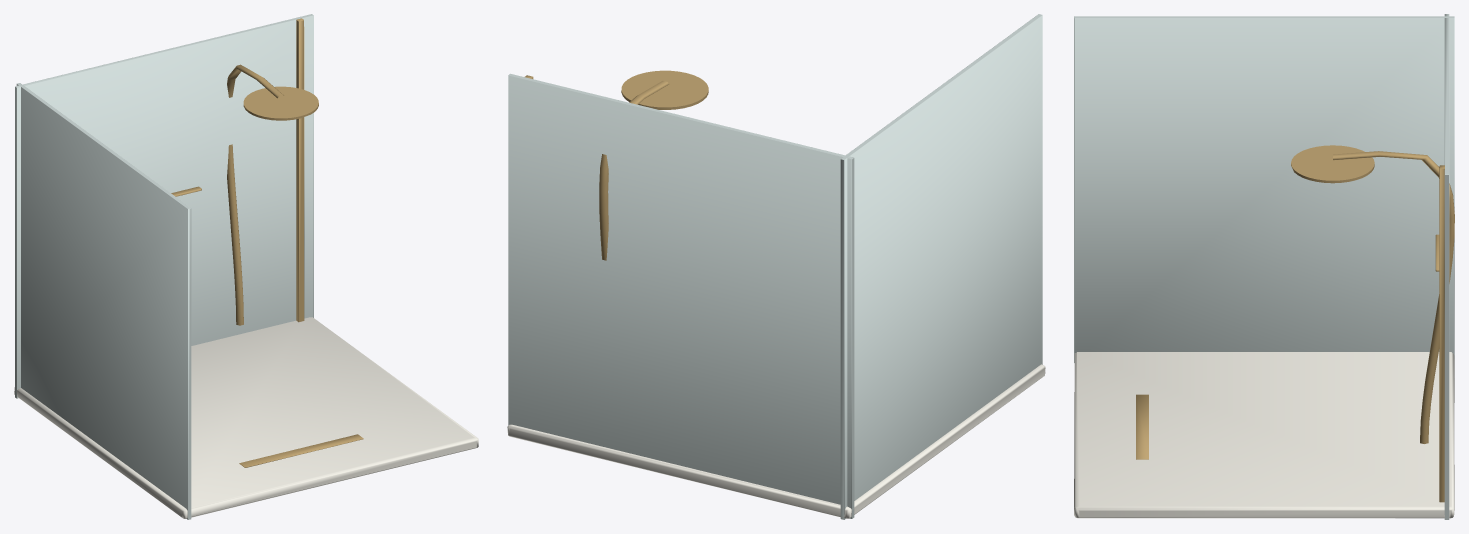
File: shower-11-1.lod.glb
3 renders of one model, left to right at view 1: azimuth 30°, elevation 25°; view 2: azimuth 150°, elevation 25°; view 3: azimuth 270°, elevation 25°, orthographic. The views are drawn at different scales.
Parts seen in each view (by area): view 1: upholstery (×2), part; view 2: upholstery (×2), part; view 3: upholstery (×2), part.
Boxes of the visible parts, x1=… form: upholstery (×2): x1=14, y1=14, x2=478, y2=519; part: x1=171, y1=18, x2=363, y2=467; upholstery (×2): x1=507, y1=14, x2=1045, y2=519; part: x1=525, y1=70, x2=708, y2=260; upholstery (×2): x1=1074, y1=14, x2=1454, y2=519; part: x1=1136, y1=145, x2=1454, y2=502.
Size of the model in its own units: 1 by 1 by 1.
